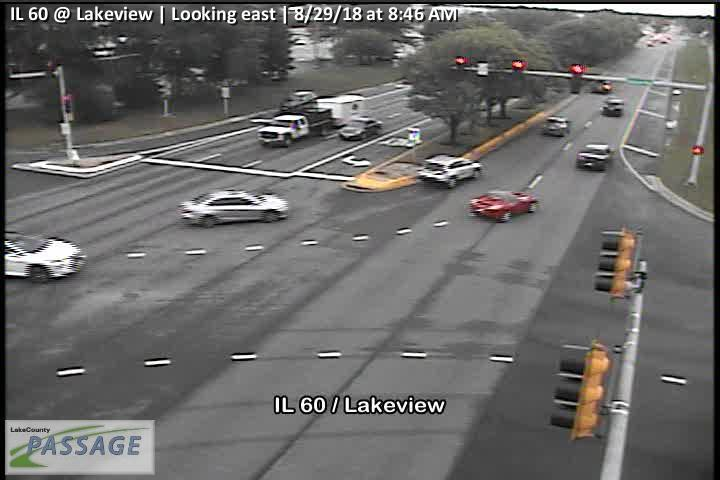SUV: (418, 154, 483, 190), (545, 116, 571, 137)
Sedan: (177, 187, 289, 229), (4, 231, 84, 283), (467, 190, 540, 223), (337, 117, 384, 142), (576, 143, 614, 172), (281, 92, 318, 112)
Truck: (256, 108, 332, 149)
